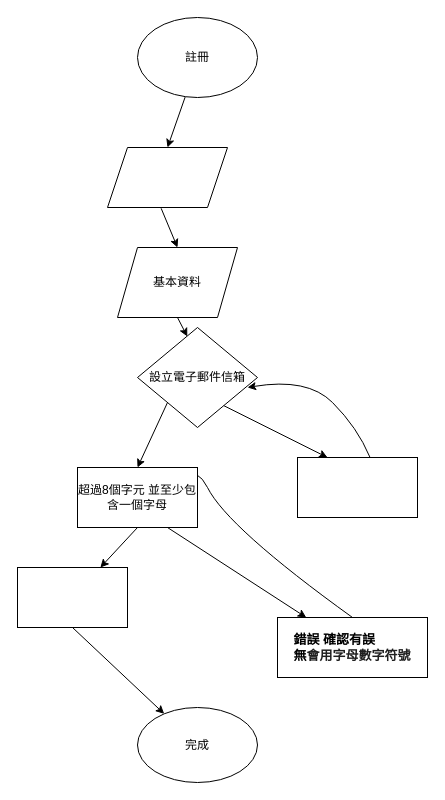
Image size: 445x800. Some labels were removed from this diagram. Each missing label, with the centre of its shape:
姓名: point (167, 177)
未達成: point (357, 487)
高強度密碼 確認後無誤: point (72, 597)
